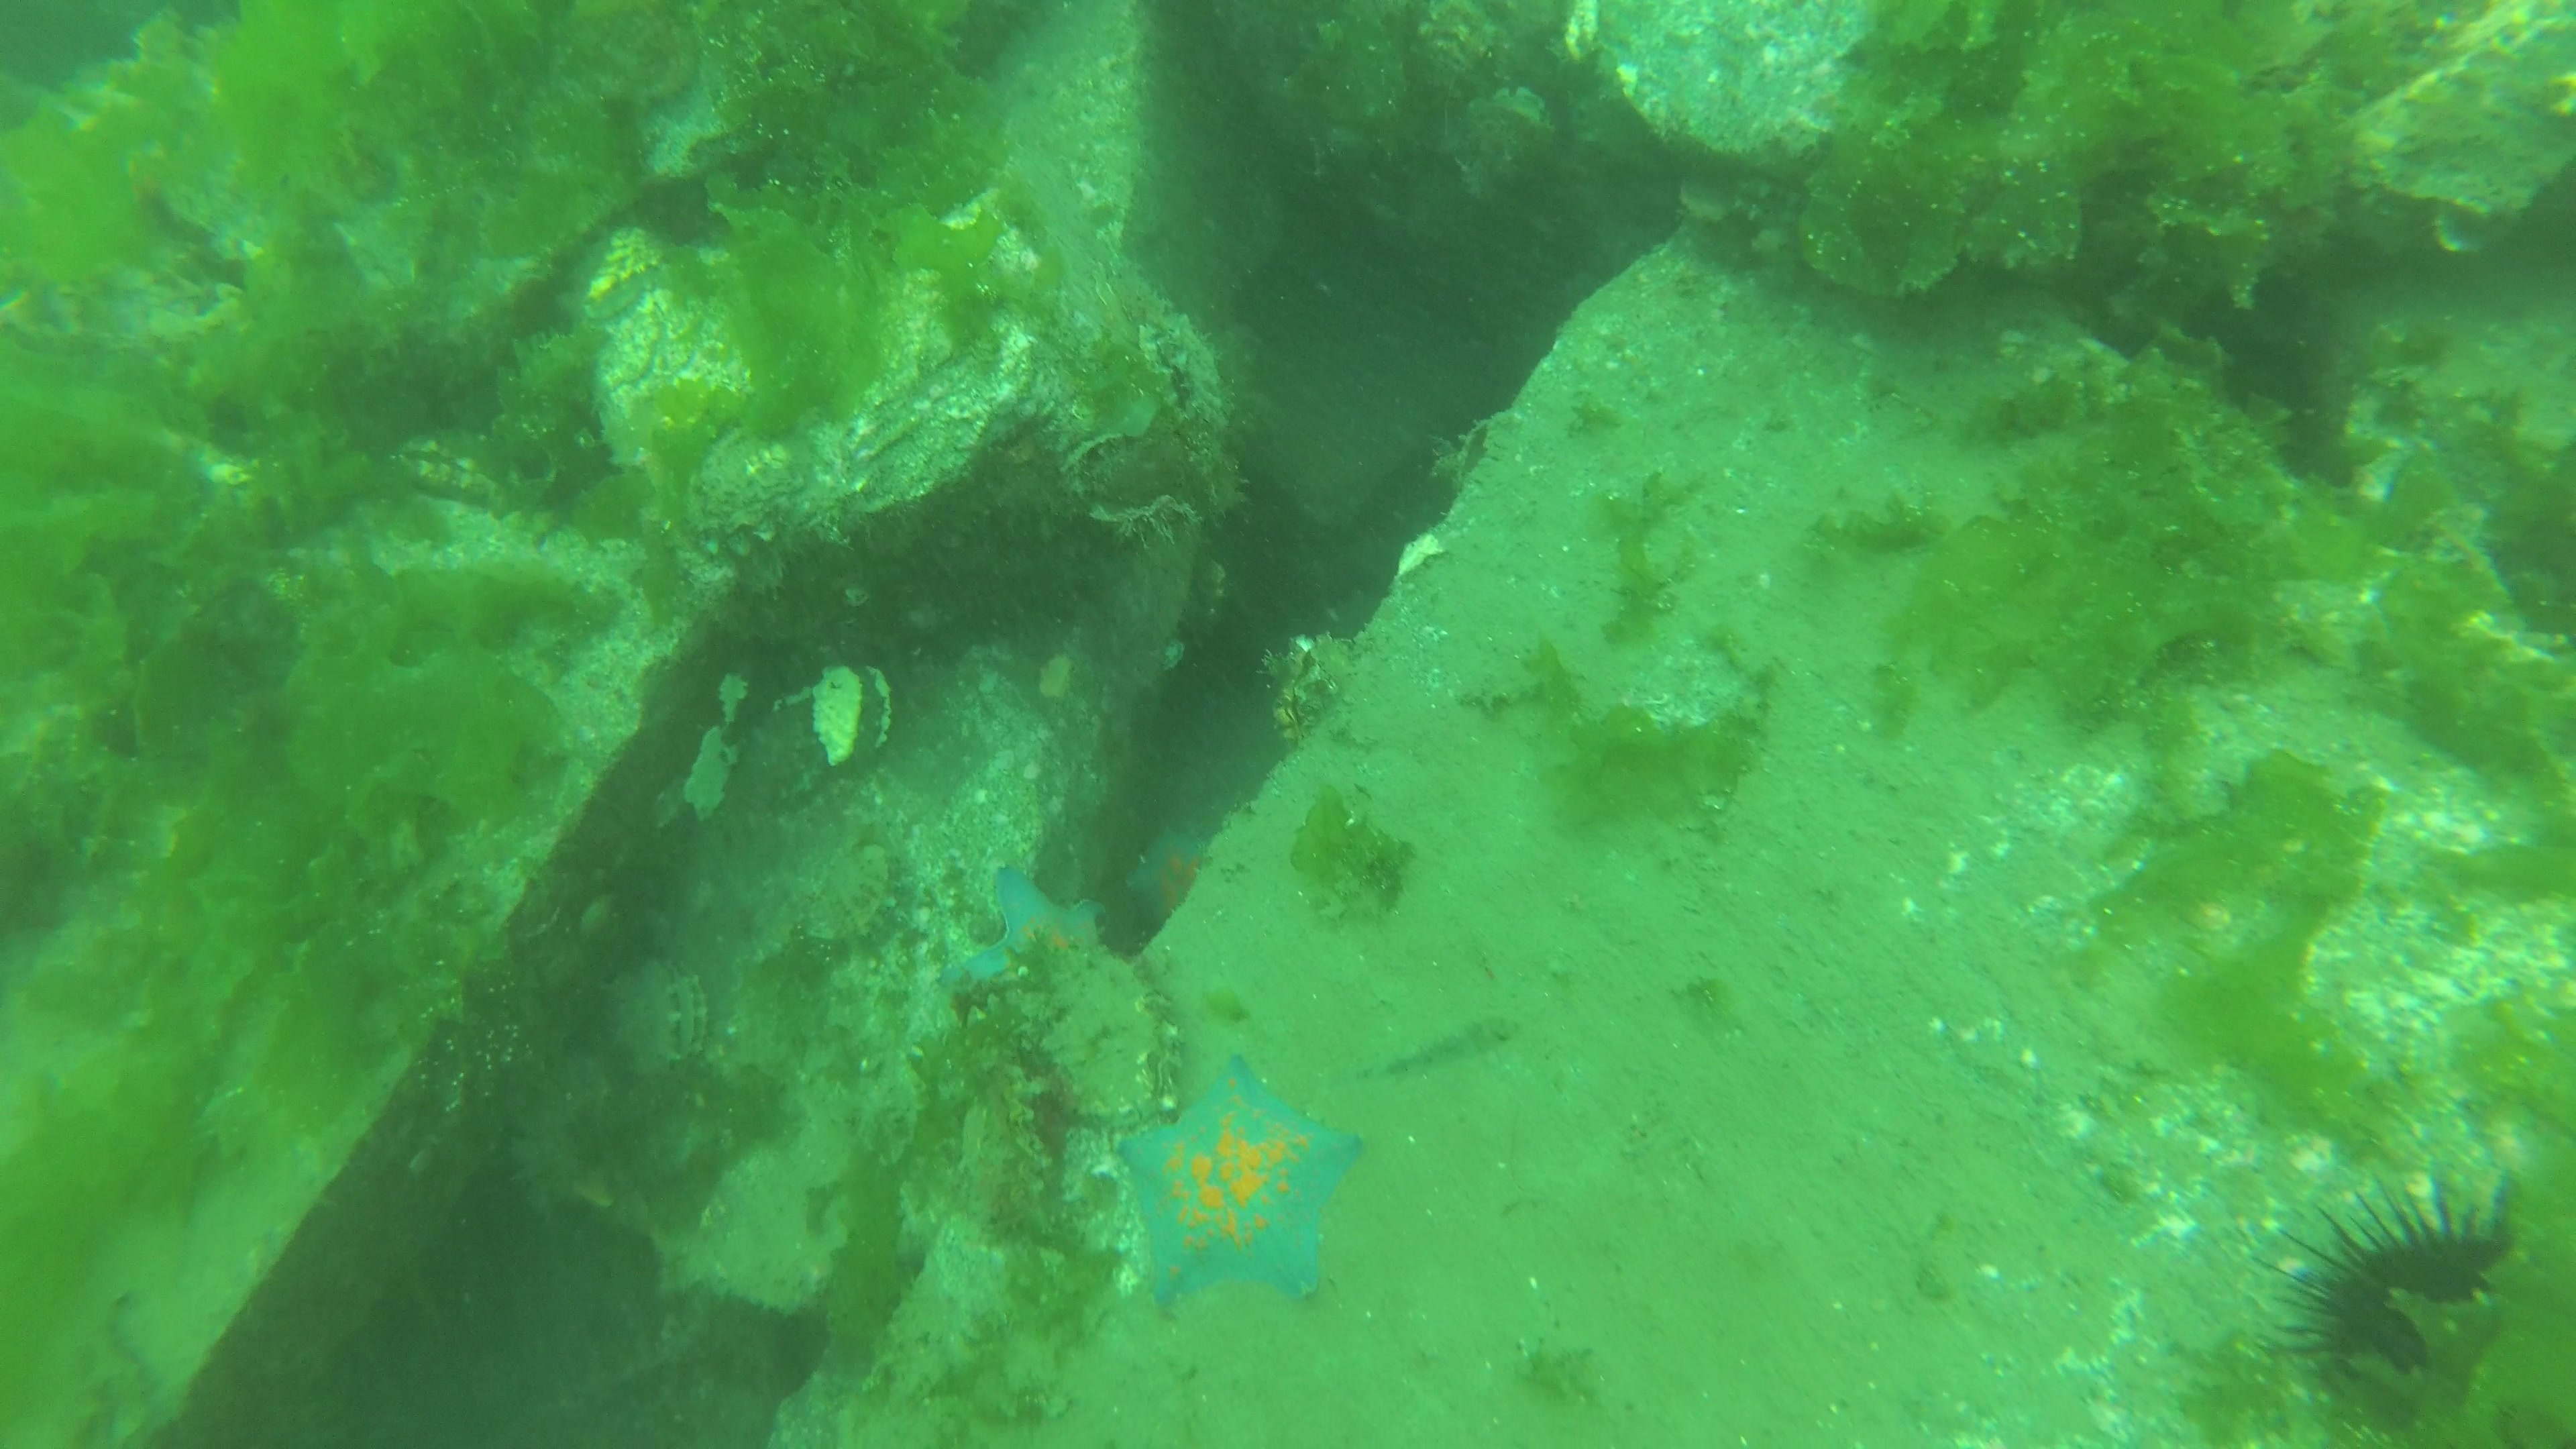echinus: (2289, 1177, 2521, 1394)
starfish: (1116, 1049, 1368, 1315), (931, 865, 1108, 994), (1122, 824, 1215, 918)
